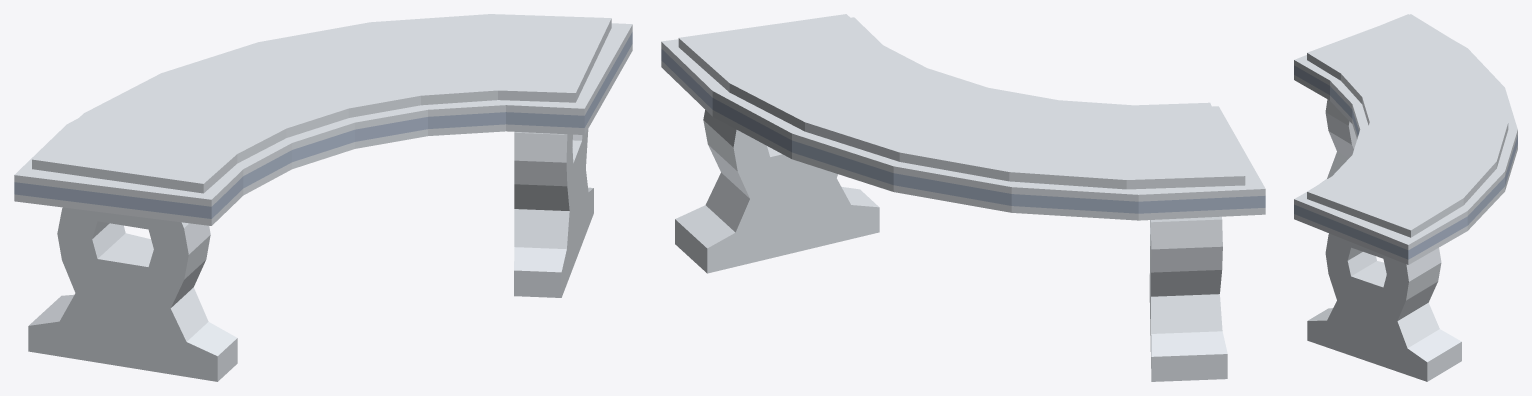
File: Circle_bench.fbx
3 views of the same model, side by side, from view 1: azimuth 30°, elevation 25°; view 2: azimuth 150°, elevation 25°; view 3: azimuth 270°, elevation 25° (orthographic). The views are drawn at different scales.
Visible parts, largest first — view 1: Circle bench; view 2: Circle bench; view 3: Circle bench.
Part boxes in pixels (box(x1,y1,x2,y2)): Circle bench: box(14, 14, 632, 381); Circle bench: box(661, 14, 1265, 381); Circle bench: box(1294, 14, 1517, 381).
Bounding box in the file's own units: 384 × 120 × 157.
